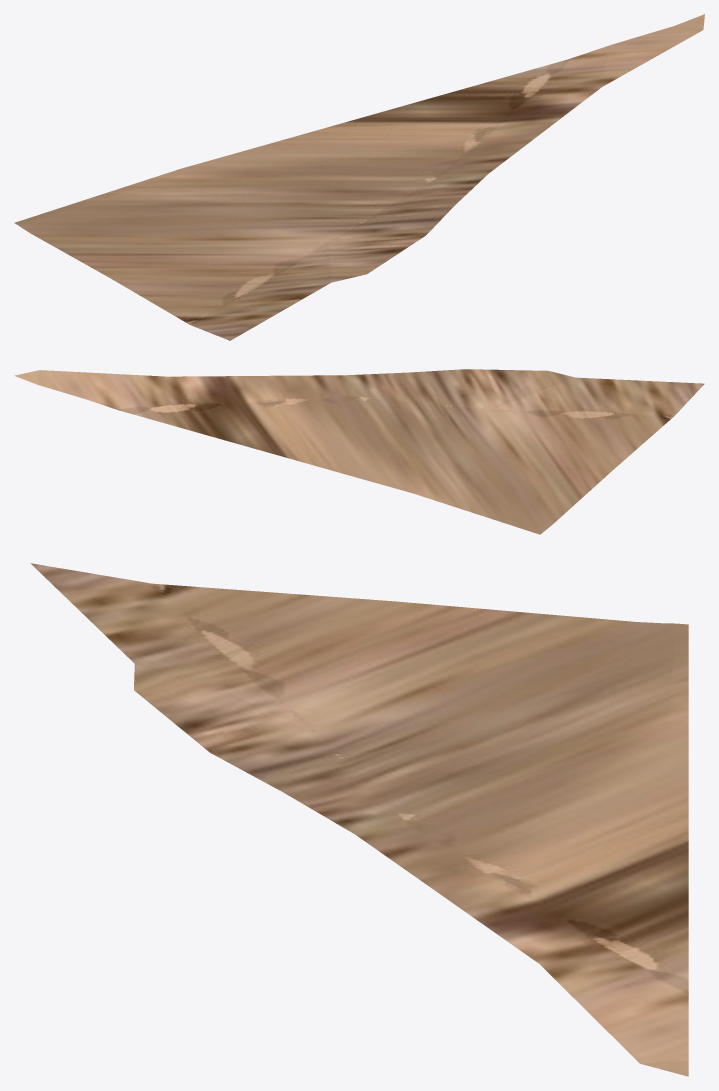
3 views of the same model, one above another, from view 1: azimuth 30°, elevation 25°; view 2: azimuth 150°, elevation 25°; view 3: azimuth 270°, elevation 25° (orthographic). The views are drawn at different scales.
Size of the model in its own units: 1.31 by 0.0728 by 0.7083.
Materials: 1 (1 with a texture image).
